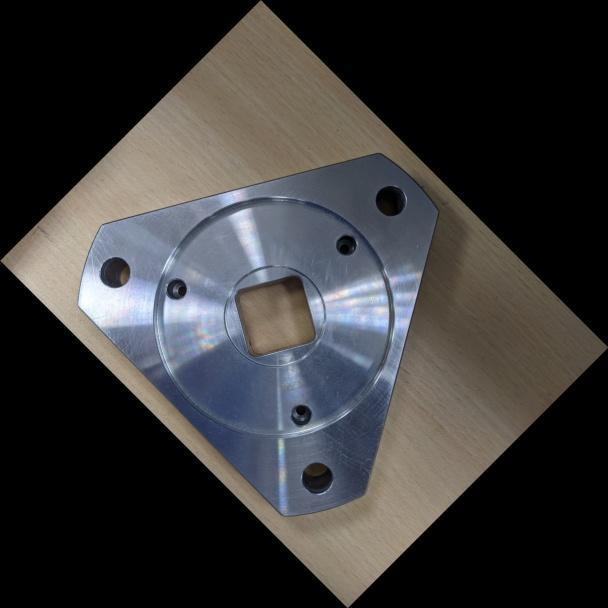hole: (359, 168, 421, 229), (85, 242, 144, 301), (286, 451, 345, 509), (321, 217, 373, 270), (274, 391, 326, 443), (150, 263, 198, 311)
